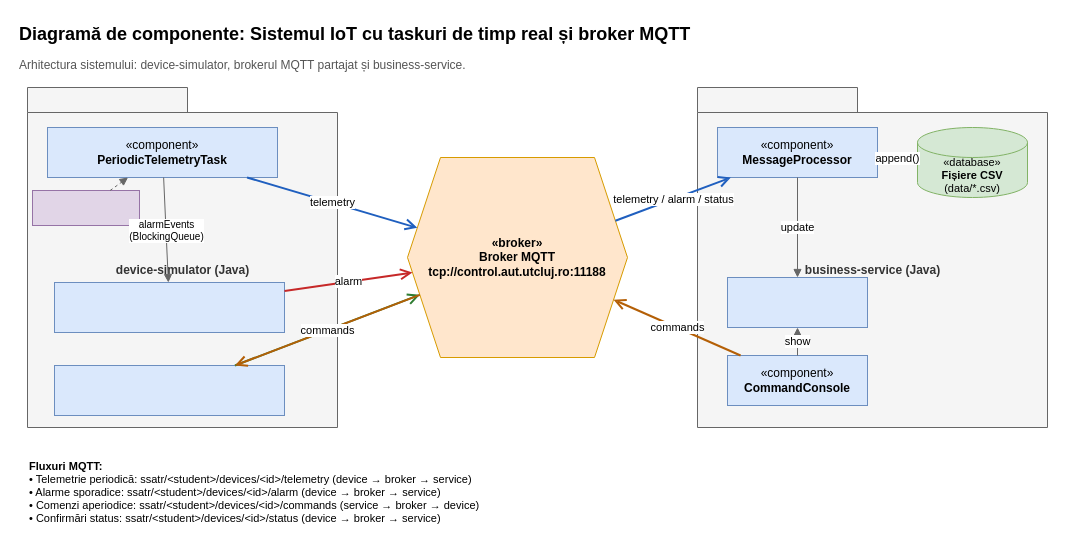
Some shapes in this 1065 by 554 pixel diagram are drawn without their labels. The centre of each missing label's shape, as x and y in pixels:
"«component» AperiodicCommandTask" belongs at (169,390).
"«component» Dashboard" belongs at (797,302).
"«component» SporadicAlarmTask" belongs at (169,307).
"«component» TemperatureSensor" belongs at (86,208).
